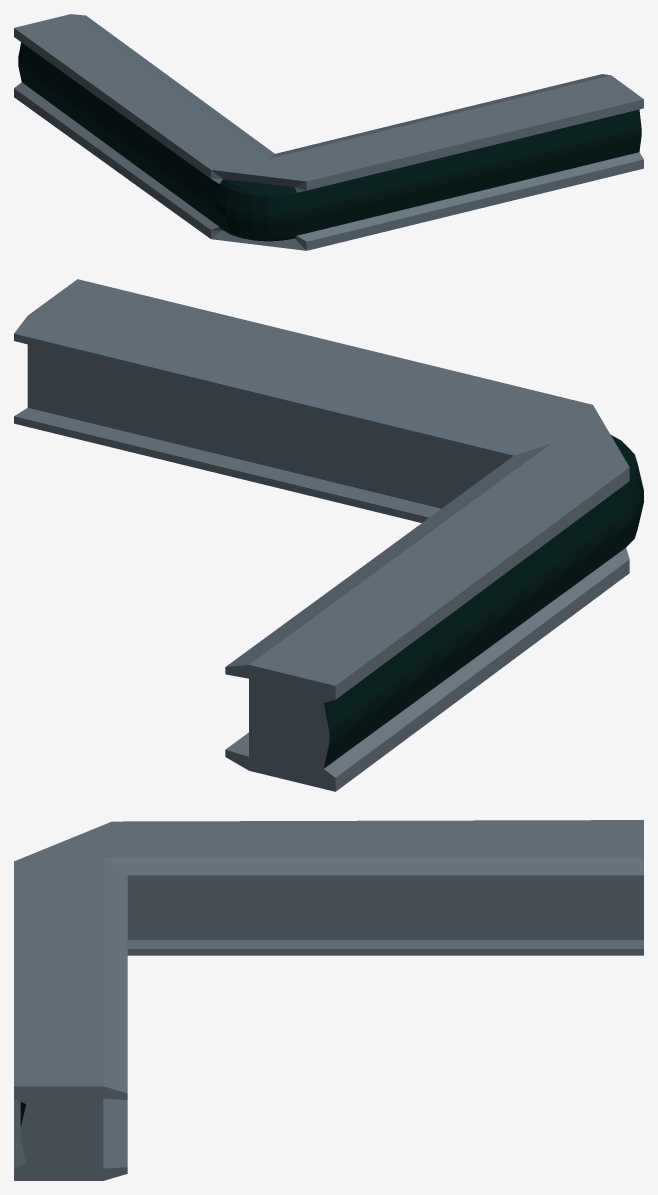
Rendered from TwoSideFrame.fbx.
The picture shows the model from 3 angles, top to bottom: view 1: azimuth 30°, elevation 25°; view 2: azimuth 150°, elevation 25°; view 3: azimuth 270°, elevation 25°; orthographic projection. The views are drawn at different scales.
Parts seen in each view (by area): view 1: TwoSideFrame; view 2: TwoSideFrame; view 3: TwoSideFrame.
Boxes of the visible parts, <box> form: TwoSideFrame: <box>14,14,643,250</box>; TwoSideFrame: <box>14,279,643,791</box>; TwoSideFrame: <box>14,820,643,1180</box>.
Bounding box in the file's own units: 11.65 × 1.93 × 11.65.
